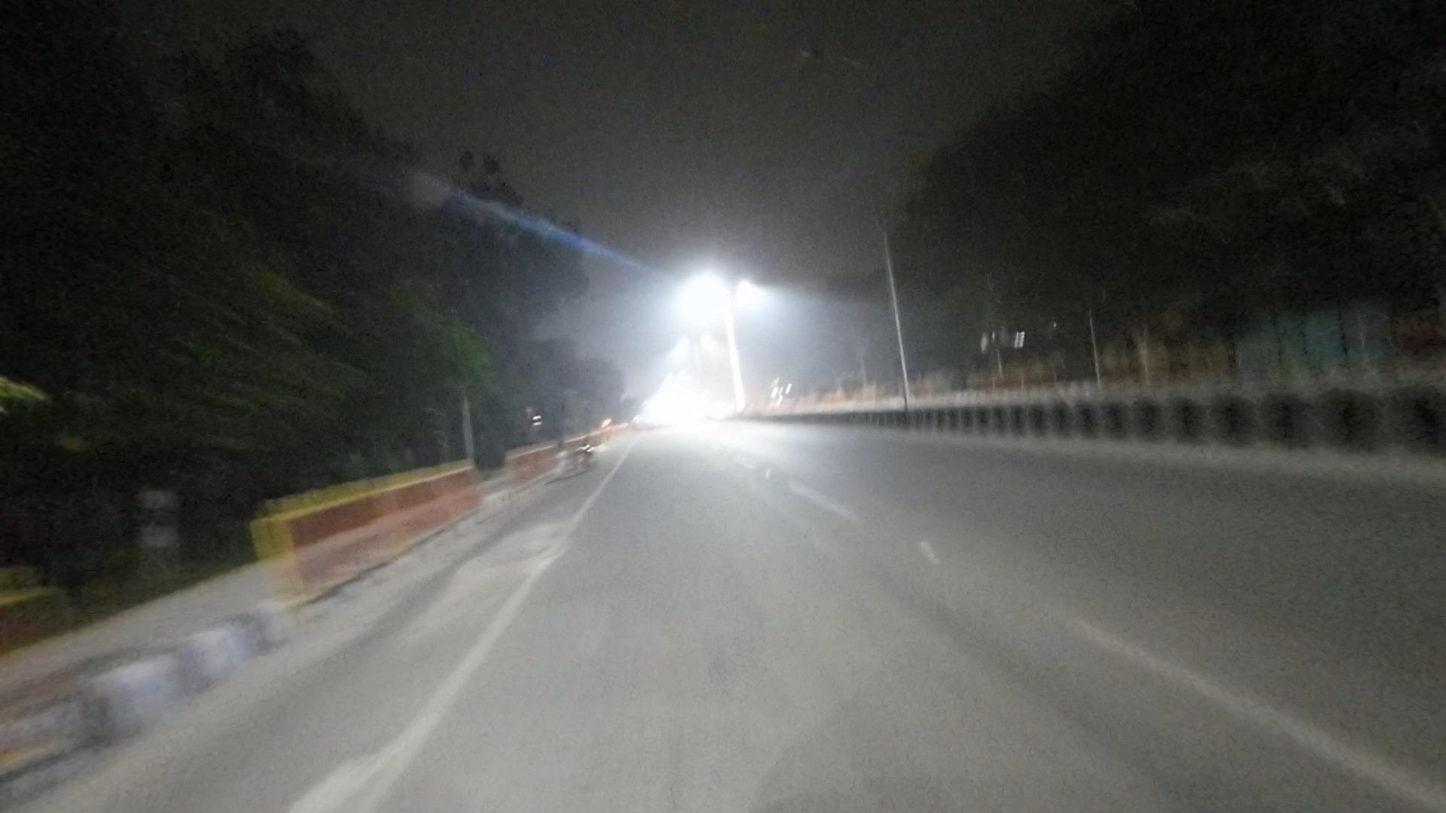streetlight: (794, 41, 855, 67)
